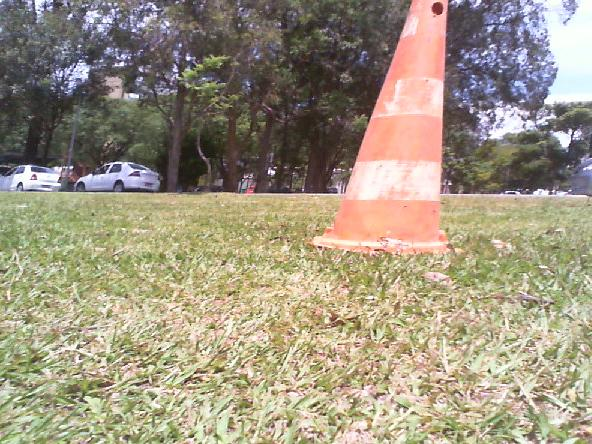0 cone: (307, 0, 452, 256)
